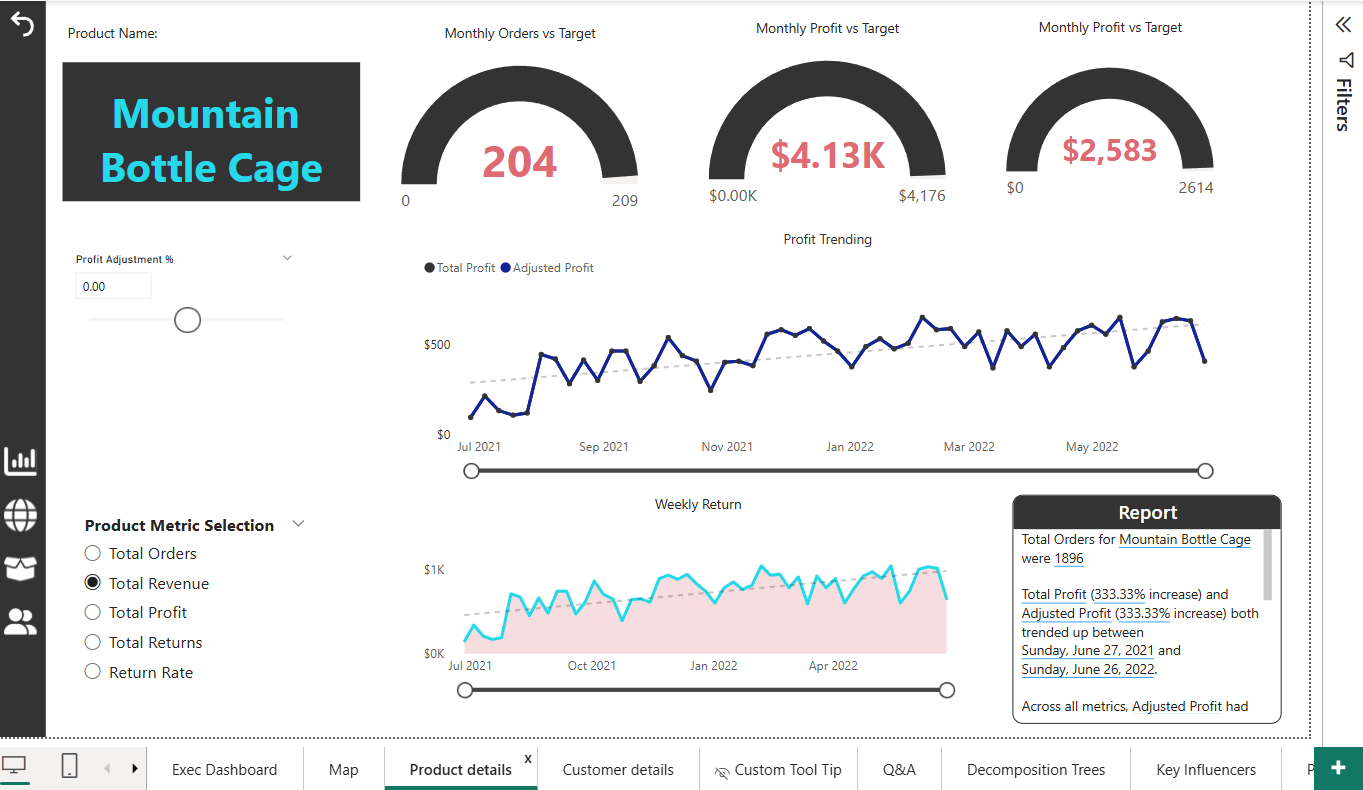

This screenshot's page, from the dashboard's own definition file:
{"tool":"powerbi","page":{"name":"Product details","canvas":[1280,720],"ordinal":2},"visuals":[{"type":"gauge","title":"Monthly Orders vs Target","fields":{"Y":["Measure.Total Orders"],"MaxValue":["Measure.Order Target"]},"box":[387.6,22,242,213],"z":0},{"type":"gauge","title":"Monthly Profit vs Target","fields":{"Y":["Measure.Total Profit"],"MaxValue":["Measure.Profit Target"]},"box":[979.7,15.9,213,214.5],"z":1000},{"type":"gauge","title":"Monthly Profit vs Target","fields":{"Y":["Measure.Total Revenue"],"MaxValue":["Measure.Revenue Target"]},"box":[688.4,17.4,242,213],"z":2000},{"type":"lineChart","title":"Profit Trending","fields":{"Category":["Calender Lookup.Start of Year Hierarchy.Start of Year","Calender Lookup.Start of Year Hierarchy.Month","Calender Lookup.Start of Year Hierarchy.Start of Week"],"Y":["Measure.Total Profit","Measure.Adjusted Profit"]},"box":[410,223.8,800,246.2],"z":3000},{"type":"lineChart","title":"Weekly Return","fields":{"Y":["Measure.Total Revenue"],"Category":["Calender Lookup.Start of Year Hierarchy.Start of Year","Calender Lookup.Start of Year Hierarchy.Month","Calender Lookup.Start of Year Hierarchy.Start of Week"]},"box":[409.6,483,546.6,201.8],"z":4000},{"type":"card","fields":{"Values":["Min(Product Lookup.ProductName)"]},"box":[61.2,60,291.2,136.2],"z":5000},{"type":"textbox","box":[61.2,17.5,162.5,32.5],"z":6000},{"type":"shape","title":"Left nav background","box":[0,0,45,720],"z":7000},{"type":"actionButton","box":[0,587.5,45,40],"z":8000},{"type":"actionButton","box":[0,535,45,40],"z":9000},{"type":"actionButton","box":[0,482.5,45,40],"z":10000},{"type":"actionButton","box":[0,430,45,40],"z":11000},{"type":"slicer","fields":{"Values":["Profit Adjustment %.Profit Adjustment %"]},"box":[61.2,241.2,237.5,93.8],"z":12000},{"type":"slicer","fields":{"Values":["Product Metric Selection.Product Metric Selection"]},"box":[70,496.2,241.2,200],"z":13000},{"type":"actionButton","box":[0,4.3,44.7,34.6],"z":14000},{"type":"textbox","title":"Report","box":[990.5,483,262.9,223.8],"z":15000}]}

Visuals, with their boxes on the page's 1280x720 design canvas (x1, y1, x2, y2). These are canvas units, not pixel positions in the 1363x790 screenshot, which may show the page scaled, cropped or inside an application window:
"Monthly Orders vs Target" gauge: crop(388, 22, 630, 235)
"Monthly Profit vs Target" gauge: crop(980, 16, 1193, 230)
"Monthly Profit vs Target" gauge: crop(688, 17, 930, 230)
"Profit Trending" lineChart: crop(410, 224, 1210, 470)
"Weekly Return" lineChart: crop(410, 483, 956, 685)
card - Min(Product Lookup.ProductName): crop(61, 60, 352, 196)
textbox: crop(61, 18, 224, 50)
"Left nav background" shape: crop(0, 0, 45, 720)
actionButton: crop(0, 588, 45, 628)
actionButton: crop(0, 535, 45, 575)
actionButton: crop(0, 482, 45, 522)
actionButton: crop(0, 430, 45, 470)
slicer - Profit Adjustment %.Profit Adjustment %: crop(61, 241, 299, 335)
slicer - Product Metric Selection.Product Metric Selection: crop(70, 496, 311, 696)
actionButton: crop(0, 4, 45, 39)
"Report" textbox: crop(990, 483, 1253, 707)
